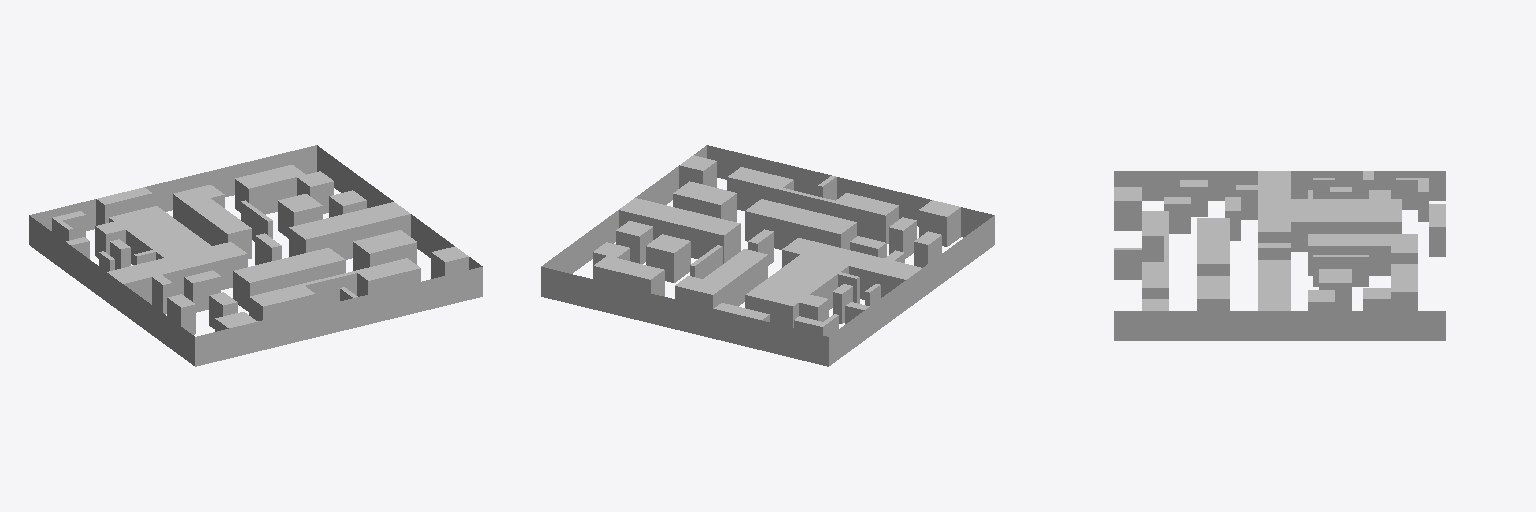
The model's file is field2.obj.
3 renders of one model, left to right at view 1: azimuth 30°, elevation 25°; view 2: azimuth 150°, elevation 25°; view 3: azimuth 270°, elevation 25°, orthographic.
Parts seen in each view (by area): view 1: 平面.002, 平面.001, 平面.003, 立方体, 立方体.002, 立方体.008, 立方体.005, 立方体.004, 平面, 立方体.023, 立方体.003, 立方体.012 (+14 smaller); view 2: 平面.003, 平面.001, 平面.002, 立方体.005, 立方体, 立方体.008, 立方体.002, 立方体.004, 平面, 立方体.012, 立方体.023, 立方体.003 (+13 smaller); view 3: 平面, 平面.001, 立方体.005, 立方体.004, 立方体.002, 立方体.008, 立方体, 立方体.023, 立方体.012, 立方体.015, 立方体.022, 立方体.003 (+12 smaller).
Boxes of the visible parts, x1=… form: 平面.002: x1=195, y1=267, x2=482, y2=366; 平面.001: x1=29, y1=215, x2=194, y2=365; 平面.003: x1=30, y1=145, x2=316, y2=230; 立方体: x1=289, y1=202, x2=410, y2=259; 立方体.002: x1=107, y1=242, x2=247, y2=304; 立方体.008: x1=233, y1=248, x2=345, y2=311; 立方体.005: x1=109, y1=206, x2=210, y2=264; 立方体.004: x1=173, y1=188, x2=251, y2=258; 平面: x1=317, y1=145, x2=482, y2=269; 立方体.023: x1=235, y1=165, x2=305, y2=214; 立方体.003: x1=353, y1=230, x2=416, y2=270; 立方体.012: x1=249, y1=284, x2=315, y2=320; 平面.003: x1=541, y1=267, x2=828, y2=366; 平面.001: x1=829, y1=215, x2=994, y2=365; 平面.002: x1=707, y1=145, x2=993, y2=237; 立方体.005: x1=745, y1=254, x2=848, y2=327; 立方体: x1=619, y1=198, x2=740, y2=263; 立方体.008: x1=745, y1=199, x2=856, y2=249; 立方体.002: x1=782, y1=238, x2=921, y2=299; 立方体.004: x1=689, y1=249, x2=767, y2=308; 平面: x1=541, y1=145, x2=706, y2=273; 立方体.012: x1=833, y1=193, x2=898, y2=243; 立方体.023: x1=593, y1=256, x2=664, y2=296; 立方体.003: x1=673, y1=181, x2=736, y2=221; 平面: x1=1114, y1=311, x2=1445, y2=340; 平面.001: x1=1114, y1=171, x2=1445, y2=200; 立方体.005: x1=1291, y1=199, x2=1401, y2=251; 立方体.004: x1=1308, y1=234, x2=1417, y2=275; 立方体.002: x1=1258, y1=171, x2=1290, y2=242; 立方体.008: x1=1197, y1=218, x2=1229, y2=275; 立方体: x1=1258, y1=260, x2=1290, y2=310; 立方体.023: x1=1391, y1=264, x2=1417, y2=310; 立方体.012: x1=1142, y1=211, x2=1168, y2=261; 立方体.015: x1=1114, y1=187, x2=1141, y2=230; 立方体.022: x1=1313, y1=255, x2=1368, y2=286; 立方体.003: x1=1197, y1=276, x2=1229, y2=310.
Size of the model in its own units: 600 by 60 by 600.